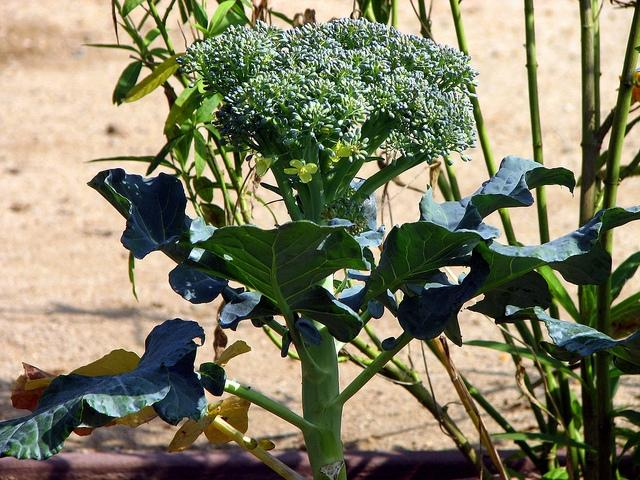broccoli: (4, 16, 638, 478)
